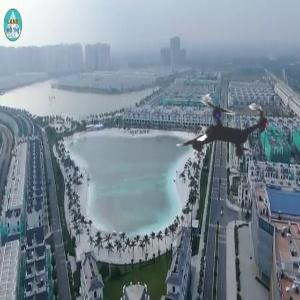drone: (157, 59, 297, 199)
